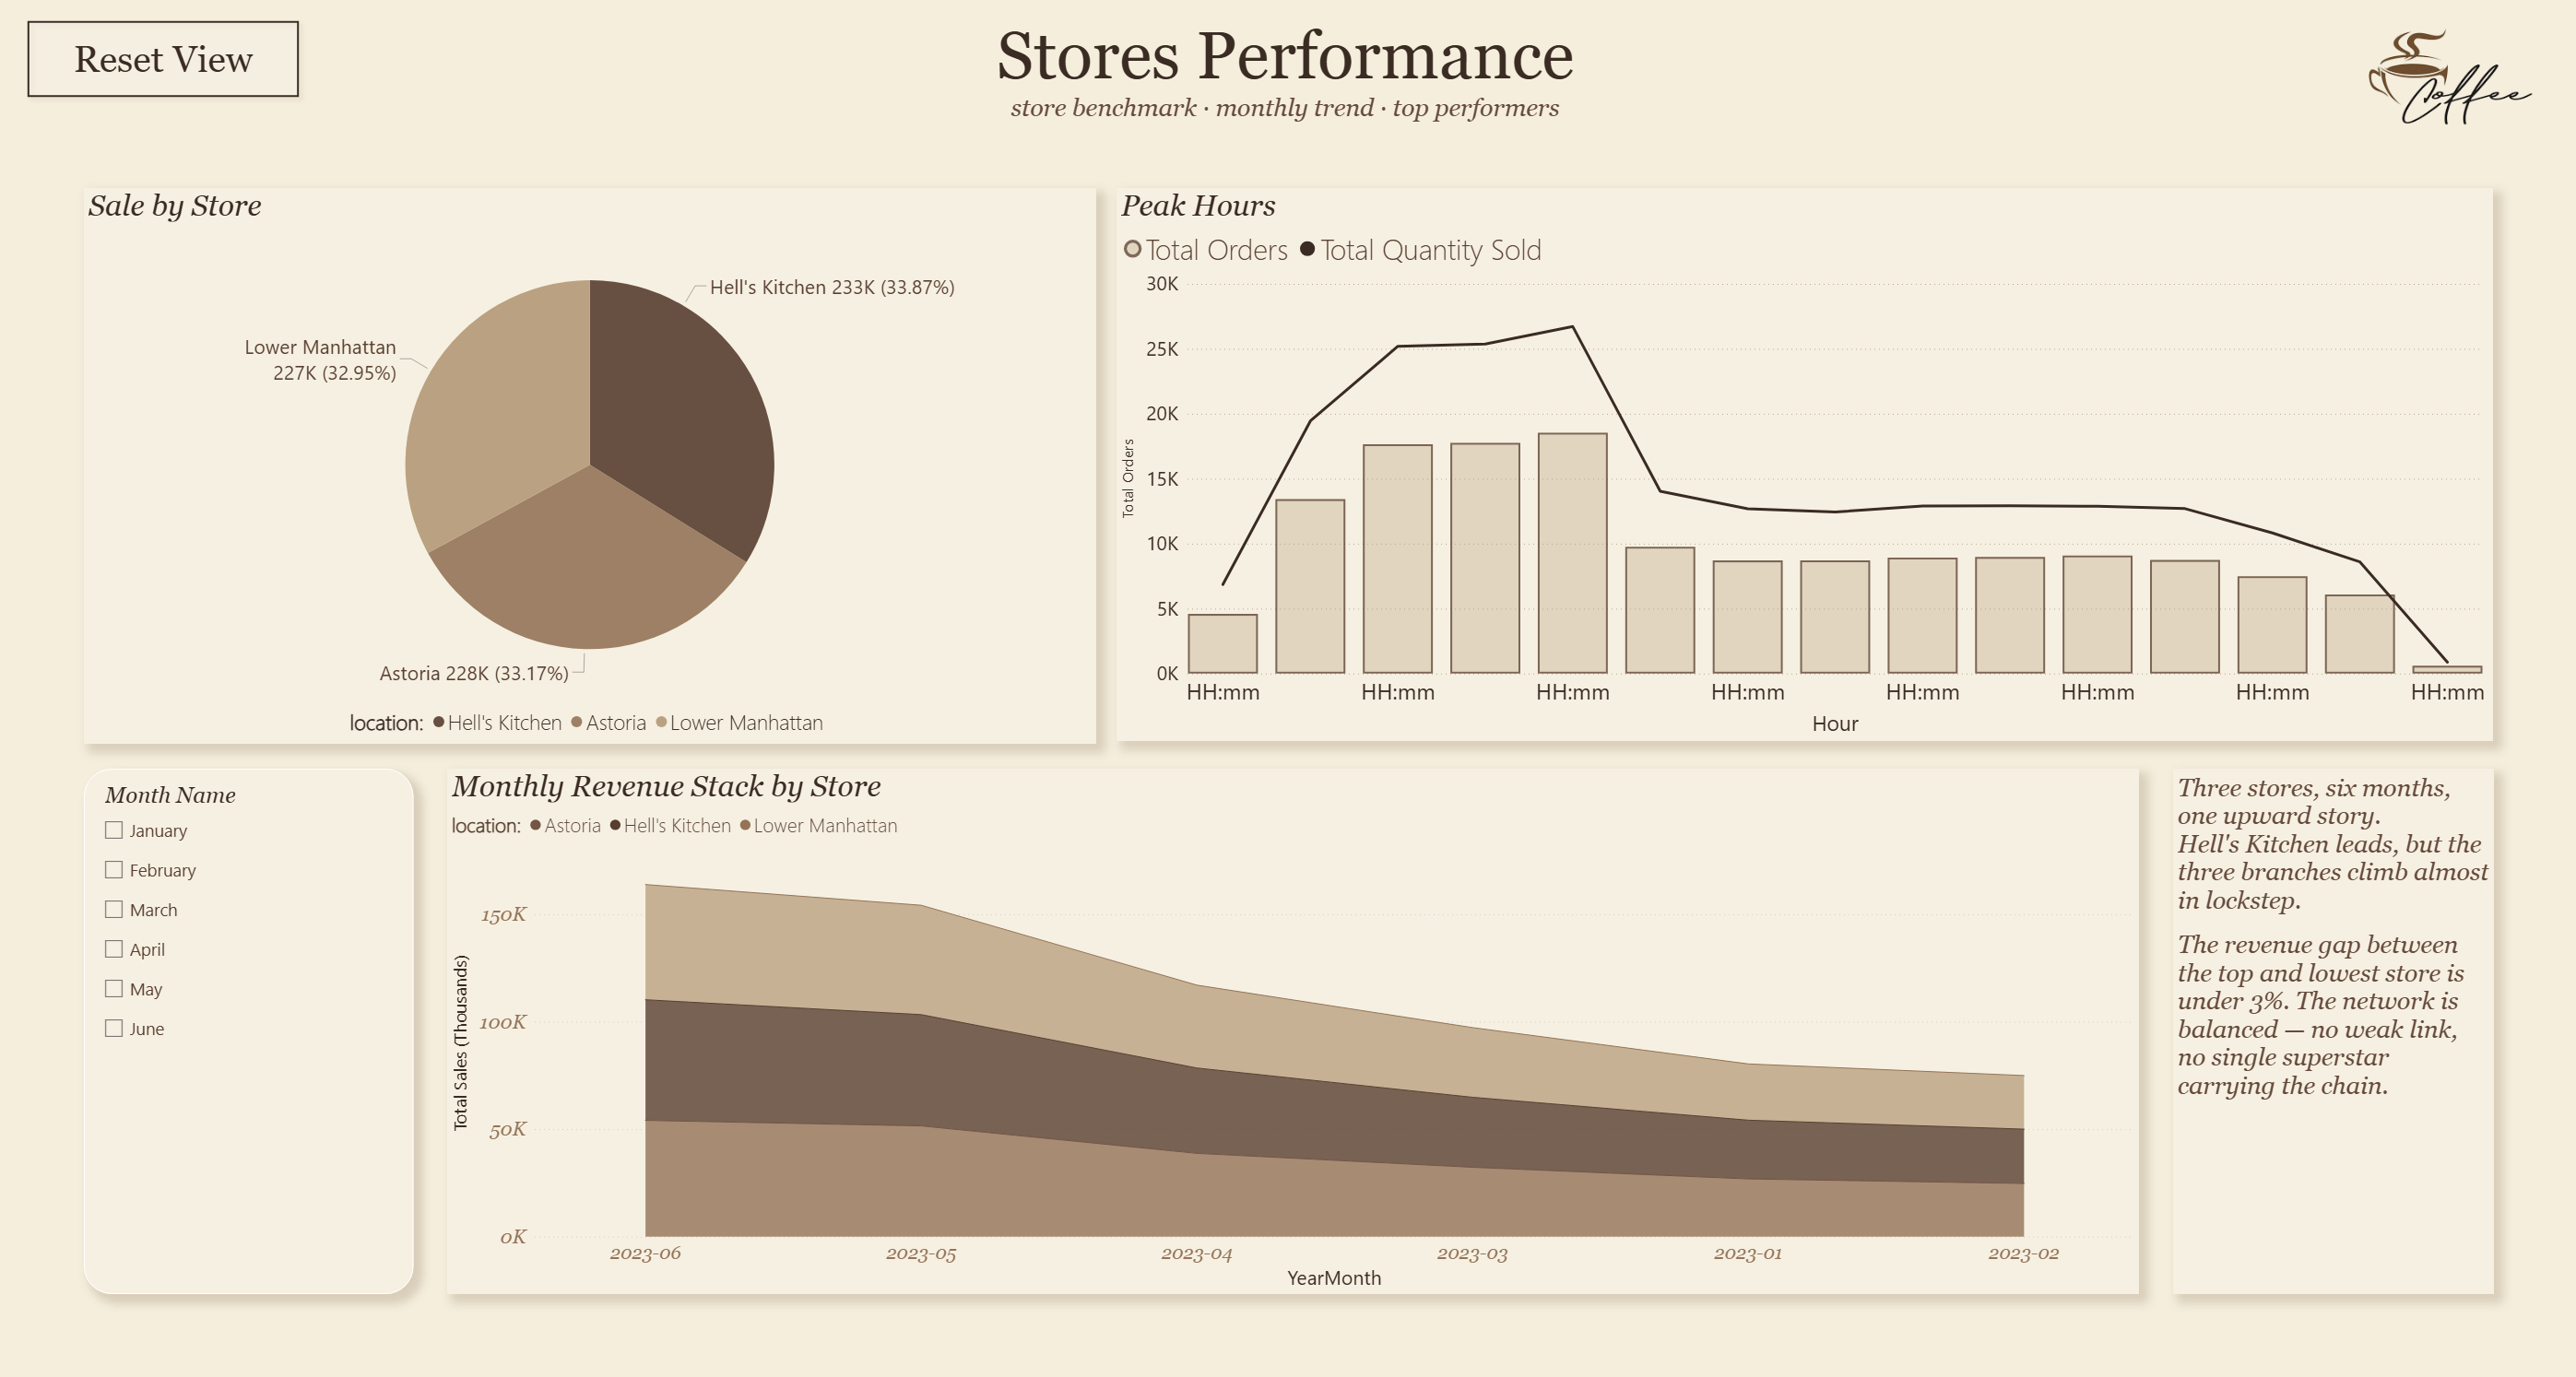

This screenshot's page, from the dashboard's own definition file:
{"tool":"powerbi","page":{"name":"Stores Performance","canvas":[2800,1500],"ordinal":3},"visuals":[{"type":"textbox","box":[740,18,1318,142],"z":0},{"type":"pieChart","title":"Sale by Store","fields":{"Category":["Project.store_location"],"Y":["Project.Total Sales"]},"box":[95,207.5,1097.5,602.5],"z":1000},{"type":"stackedAreaChart","title":"Monthly Revenue Stack by Store","fields":{"Y":["Project.Total Sales"],"Series":["Project.store_location"],"Category":["DimDate.YearMonth"]},"box":[490,837.5,1835,570],"z":2000},{"type":"image","box":[2526,0,274,174],"z":3000},{"type":"textbox","box":[2362.5,837.5,347.5,570],"z":4000},{"type":"actionButton","box":[26,18,312,100],"z":5000},{"type":"slicer","fields":{"Values":["Project.Month Name"]},"box":[95,837.5,357.5,570],"z":6000}]}

Visuals, with their boxes in screenshot pixels (x1, y1, x2, y2), scaled from the page's 2800x1500 canvas onto the 2576x1377 screenshot:
textbox: pyautogui.locateOnScreen(680, 17, 1894, 147)
"Sale by Store" pieChart: pyautogui.locateOnScreen(88, 191, 1097, 744)
"Monthly Revenue Stack by Store" stackedAreaChart: pyautogui.locateOnScreen(451, 769, 2139, 1292)
image: pyautogui.locateOnScreen(2324, 0, 2575, 159)
textbox: pyautogui.locateOnScreen(2173, 769, 2493, 1292)
actionButton: pyautogui.locateOnScreen(24, 17, 311, 109)
slicer - Project.Month Name: pyautogui.locateOnScreen(88, 769, 417, 1292)
